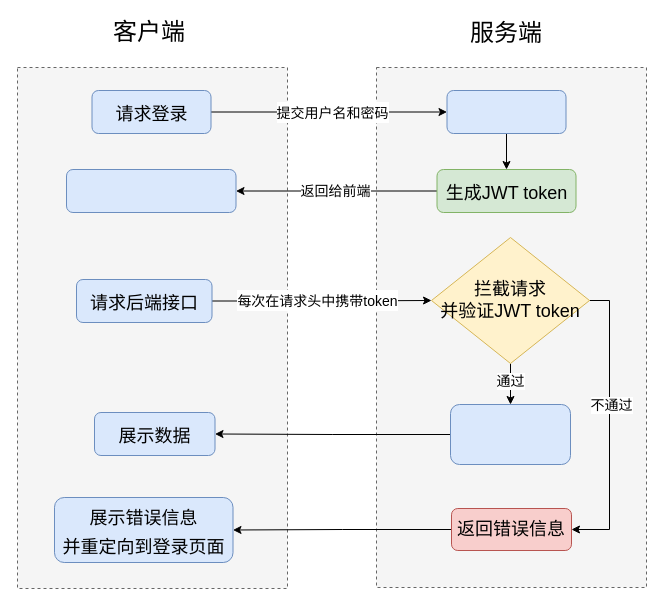
This 664x606 diagram has some shape labels left out. The shapes that lost their labels are listed below. From the top down, each one's centre as x and y in pixels, then its label:
At point (506, 112): "认证通过".
At point (151, 190): "本地保存JWT token".
At point (510, 434): "执行业务逻辑 返回数据".
